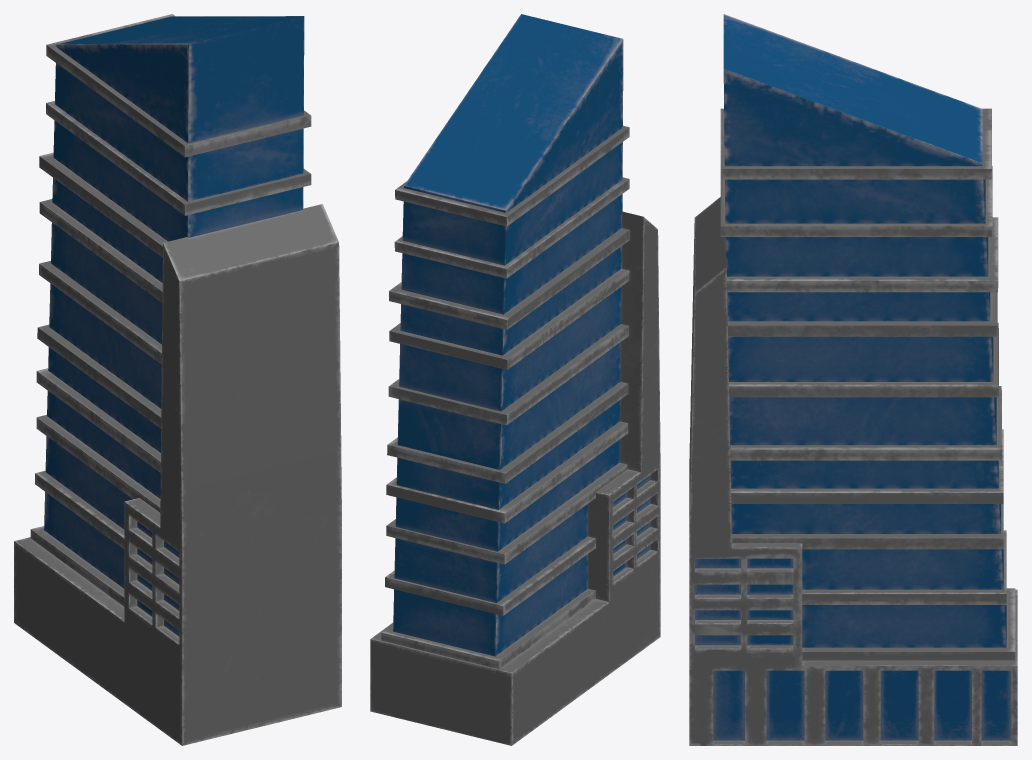
Rendered from Building.fbx.
3 views of the same model, side by side, from view 1: azimuth 30°, elevation 25°; view 2: azimuth 150°, elevation 25°; view 3: azimuth 270°, elevation 25° (orthographic). The views are drawn at different scales.
Parts seen in each view (by area): view 1: Cube; view 2: Cube; view 3: Cube.
Part boxes in pixels (x1,y1,x2,y2): Cube: (14,14,341,745); Cube: (370,14,660,745); Cube: (689,14,1017,745).
Bounding box in the file's own units: 407 × 1664 × 743.
1 material, 1 textured.
